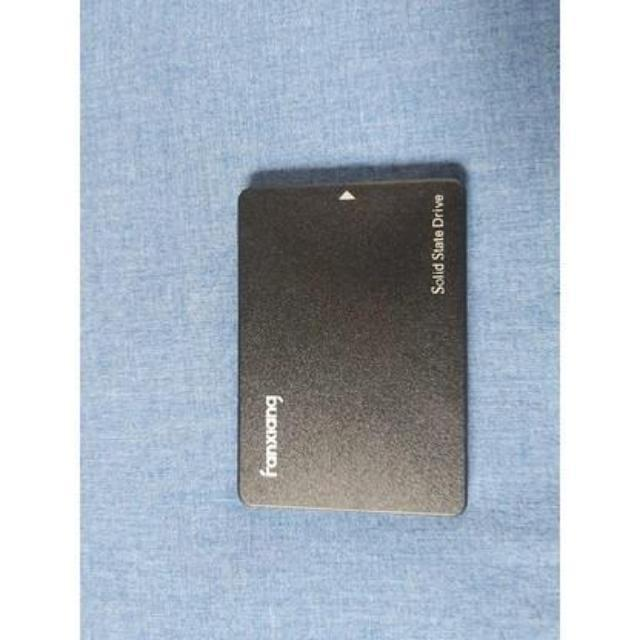DISK: (226, 172, 477, 526)
